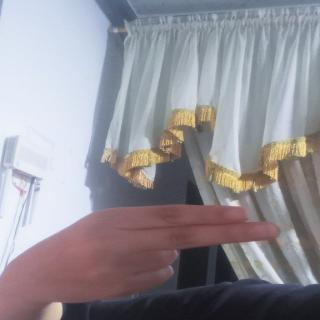AYN: (4, 198, 281, 312)
